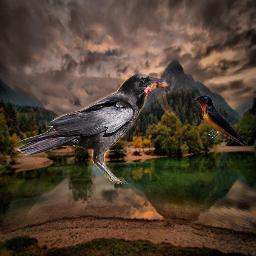Crow: (13, 70, 182, 184)
Swallow: (192, 95, 248, 146)
